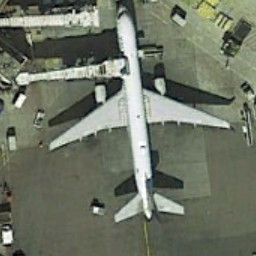Airplane: (46, 1, 234, 231)
